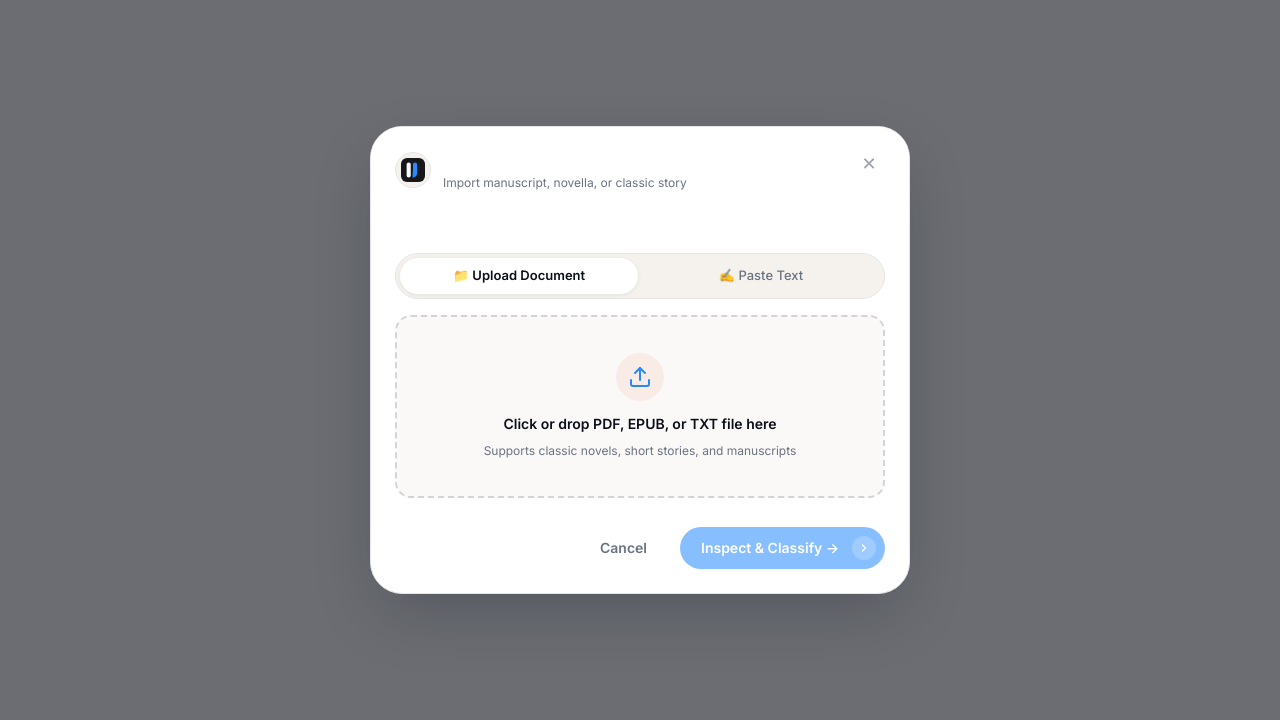
Test: Catalog & Library Suite (Phase 5) › AddBookModal Component › engages LorelyUploadProgress overlay and LorelyLoader during inspection
Later steps or results of the test are not shown.
# Switch to paste tab and enter text
Click the button "✍️ Paste Text" at [761, 276], box [642,258,880,294]
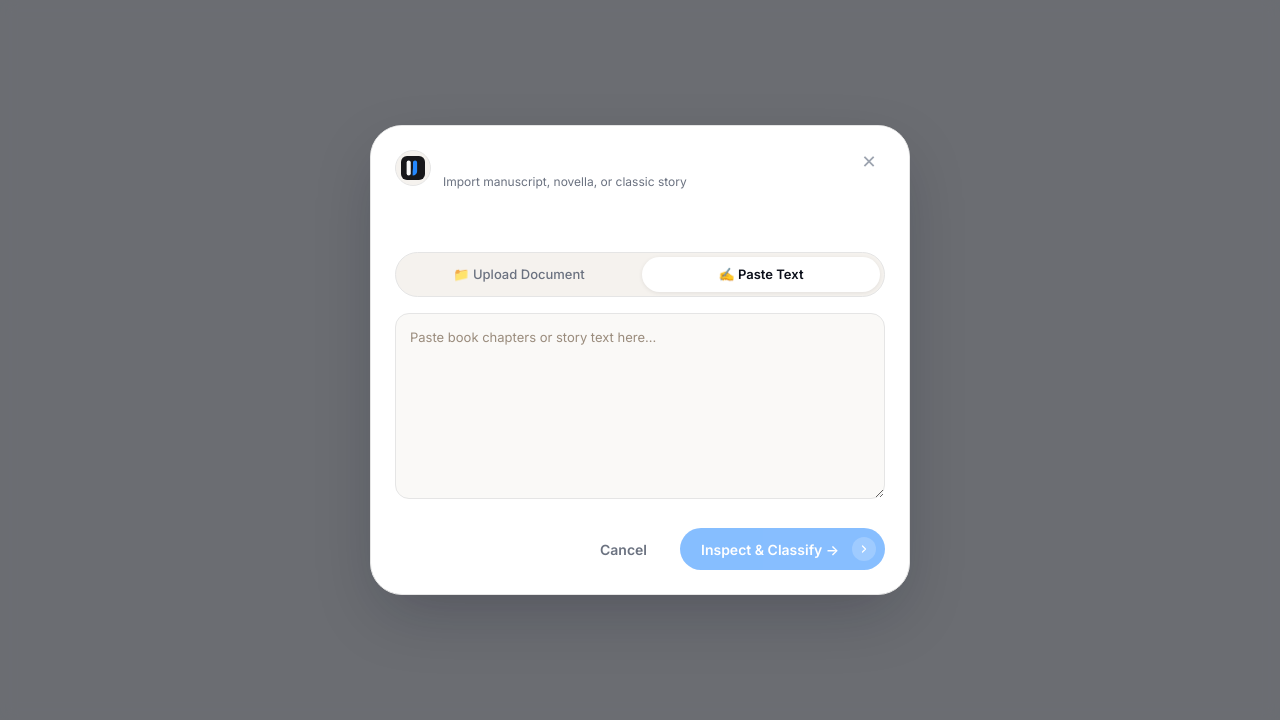
Type "Once upon a time in St. Petersburg..." into the text box with placeholder "Paste book chapters or story text here..." at [640, 406], box [395,313,885,499]
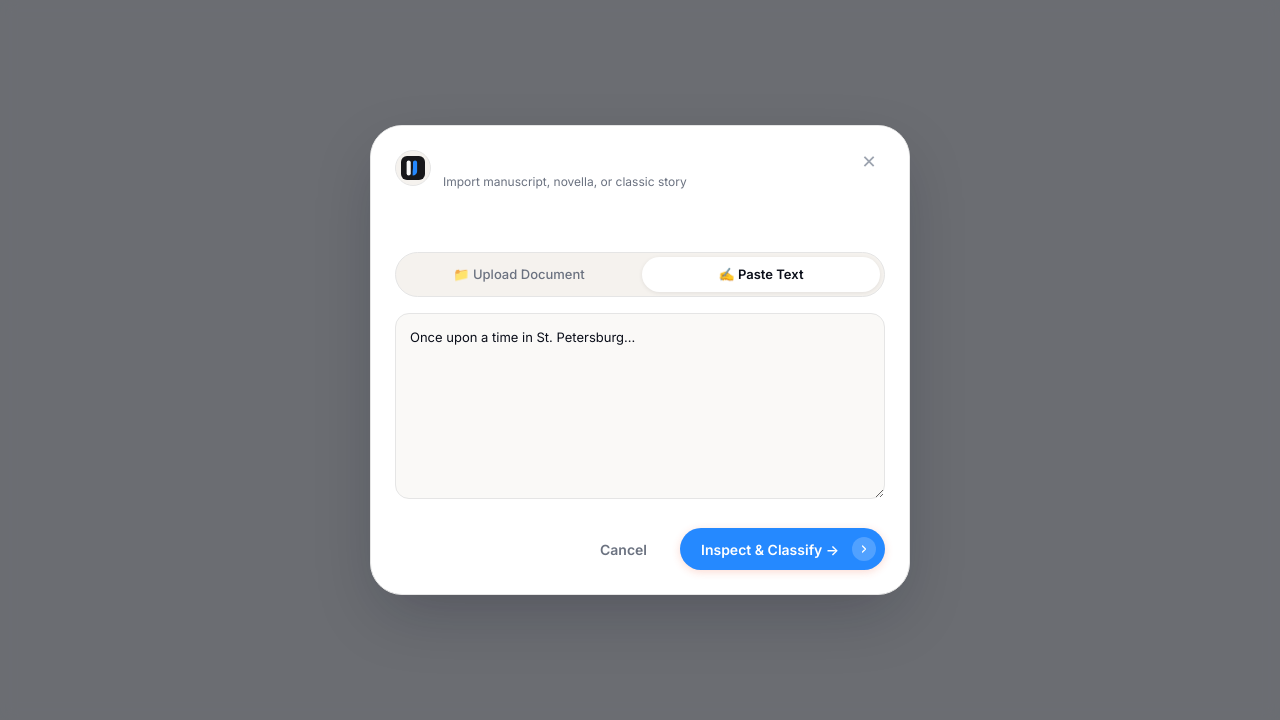
Click the button "Inspect & Classify →" at [782, 549], box [680,528,885,570]
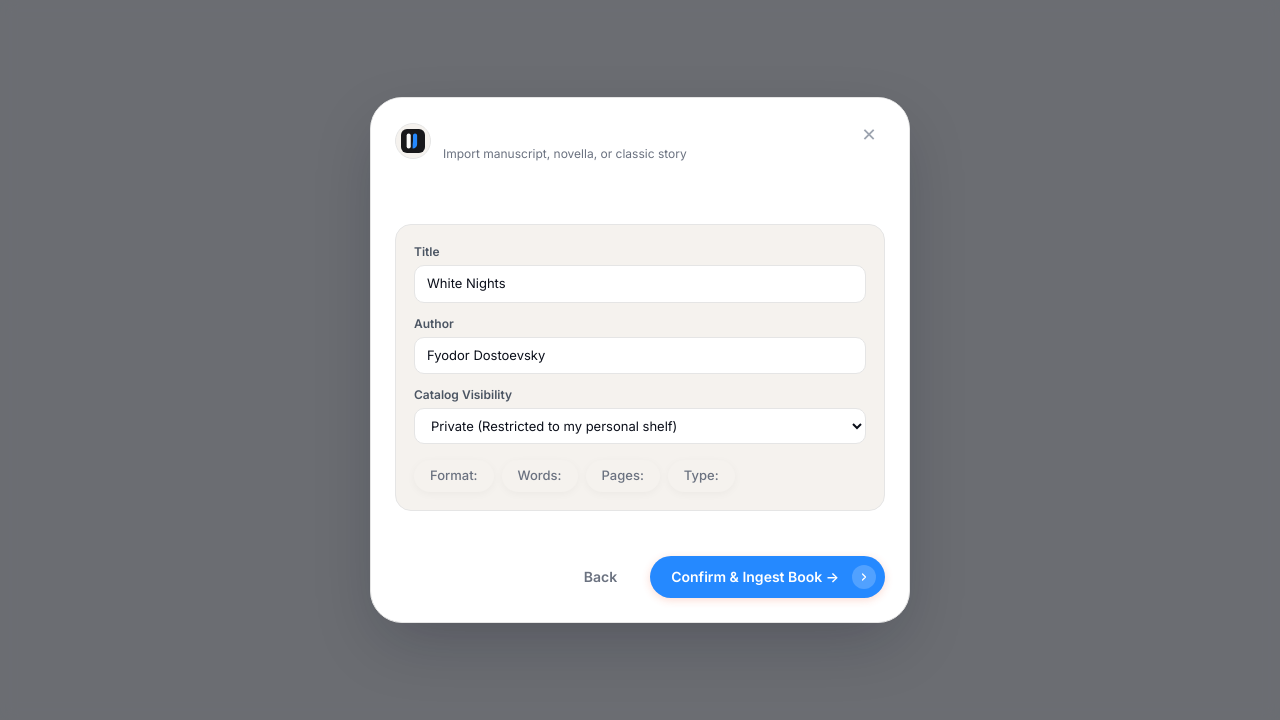
Check: the text "Confirm & Ingest Book →" is shown, box [671,566,839,587]
